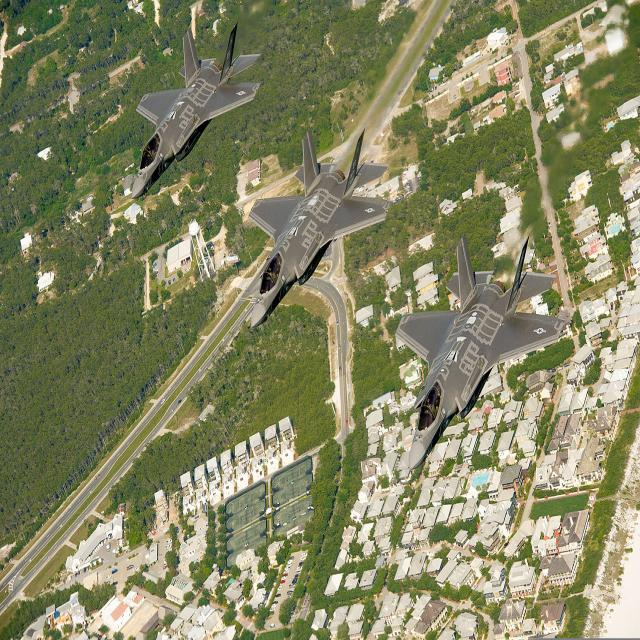MIL_Plane: (394, 233, 565, 470), (248, 128, 392, 329), (131, 0, 261, 165)
